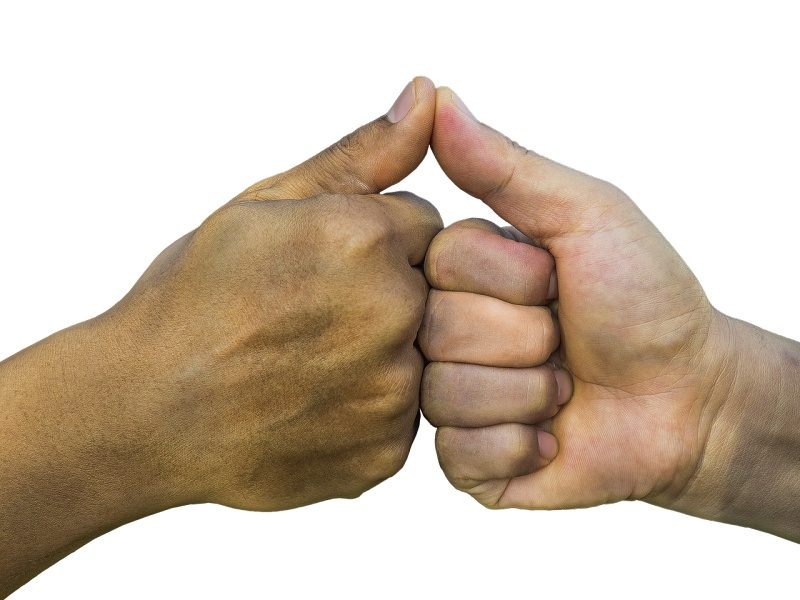no-phone: (97, 63, 441, 540), (415, 66, 751, 541)
